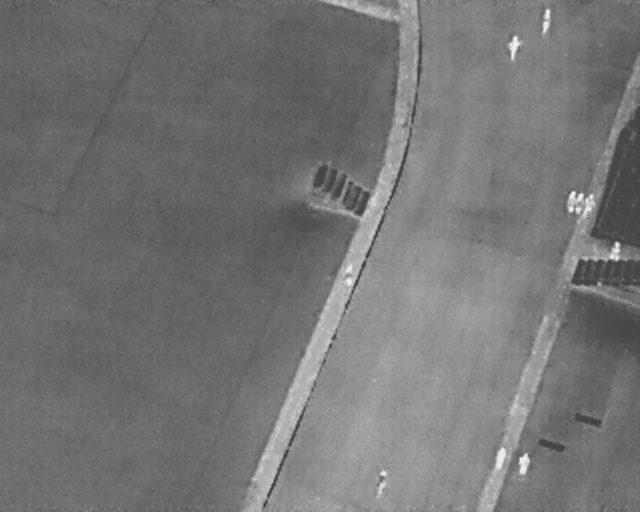Person: (490, 443, 510, 475), (373, 467, 390, 500), (516, 448, 532, 477), (506, 31, 521, 61), (540, 6, 553, 37), (564, 186, 578, 214), (583, 192, 598, 217), (573, 190, 586, 215), (610, 240, 622, 263), (344, 261, 355, 285)
